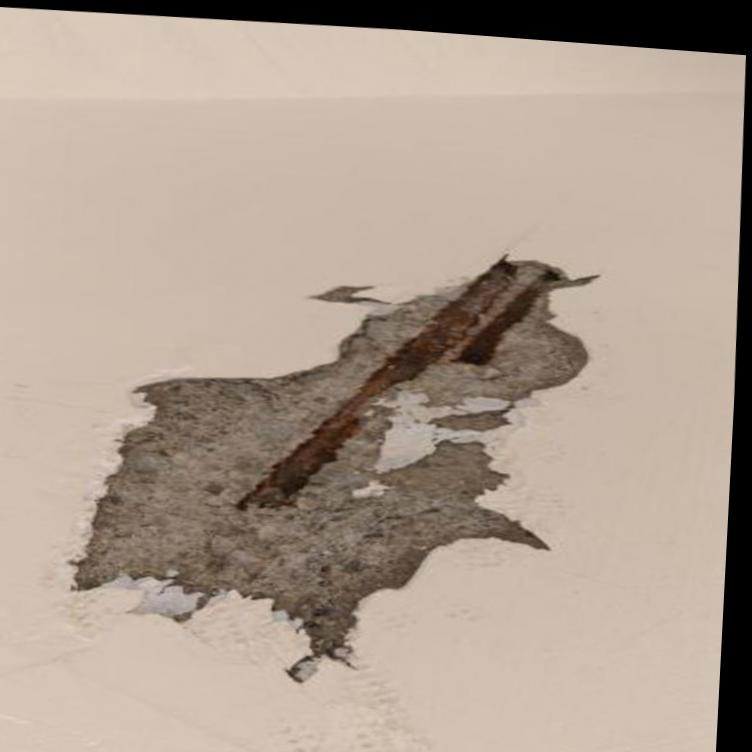damage: (80, 250, 598, 677), (312, 278, 390, 295)
